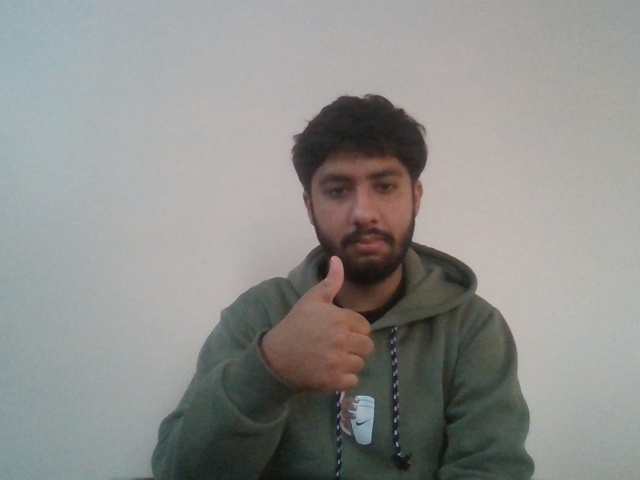Yes: (262, 251, 374, 397)
